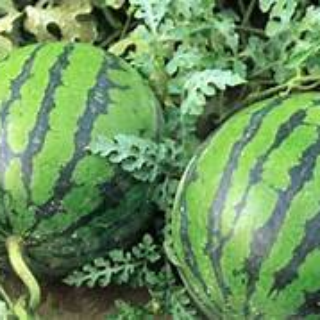dua_hau: (1, 45, 164, 276), (165, 92, 320, 315)
